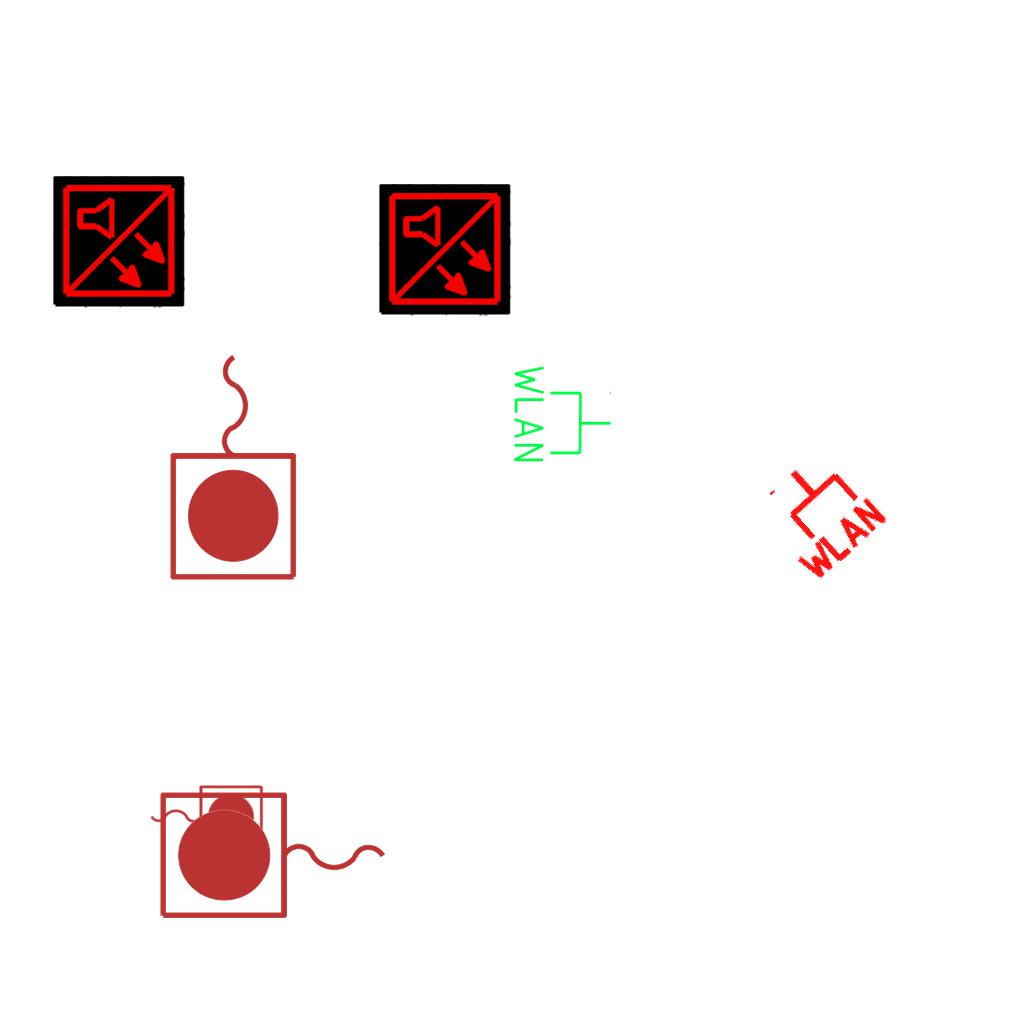OKW_Multisensormelder_(Kombination_optischer_Rauch-Kahlenmonoxid_Waerme-Melder): (53, 176, 185, 308), (379, 184, 511, 316)
WLAN: (744, 440, 893, 588), (510, 361, 614, 466)
Zugtaster: (163, 344, 307, 588), (152, 785, 396, 929), (145, 780, 267, 852)
